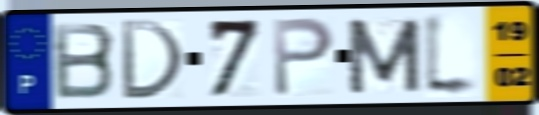7: (206, 17, 264, 100)
B: (50, 21, 118, 102)
D: (117, 18, 187, 103)
L: (422, 9, 483, 100)
M: (343, 16, 424, 96)
P: (270, 15, 337, 99)
